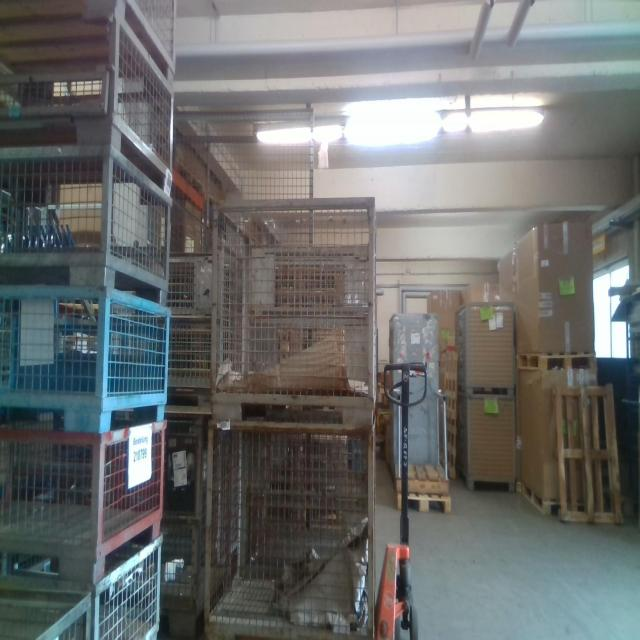pallet: (553, 385, 625, 527), (438, 350, 458, 479), (516, 351, 598, 372), (394, 472, 453, 500), (524, 482, 563, 518), (396, 495, 451, 514)
pallet_truck: (372, 360, 428, 636)
stillage: (206, 186, 385, 418), (206, 413, 380, 639), (3, 3, 176, 183), (1, 407, 172, 581), (2, 277, 176, 434), (0, 135, 182, 284), (2, 532, 166, 637), (67, 4, 181, 76), (153, 511, 212, 631), (459, 389, 524, 495), (1, 578, 96, 639), (458, 299, 520, 392), (158, 429, 202, 555), (164, 315, 207, 403), (156, 256, 205, 325)
